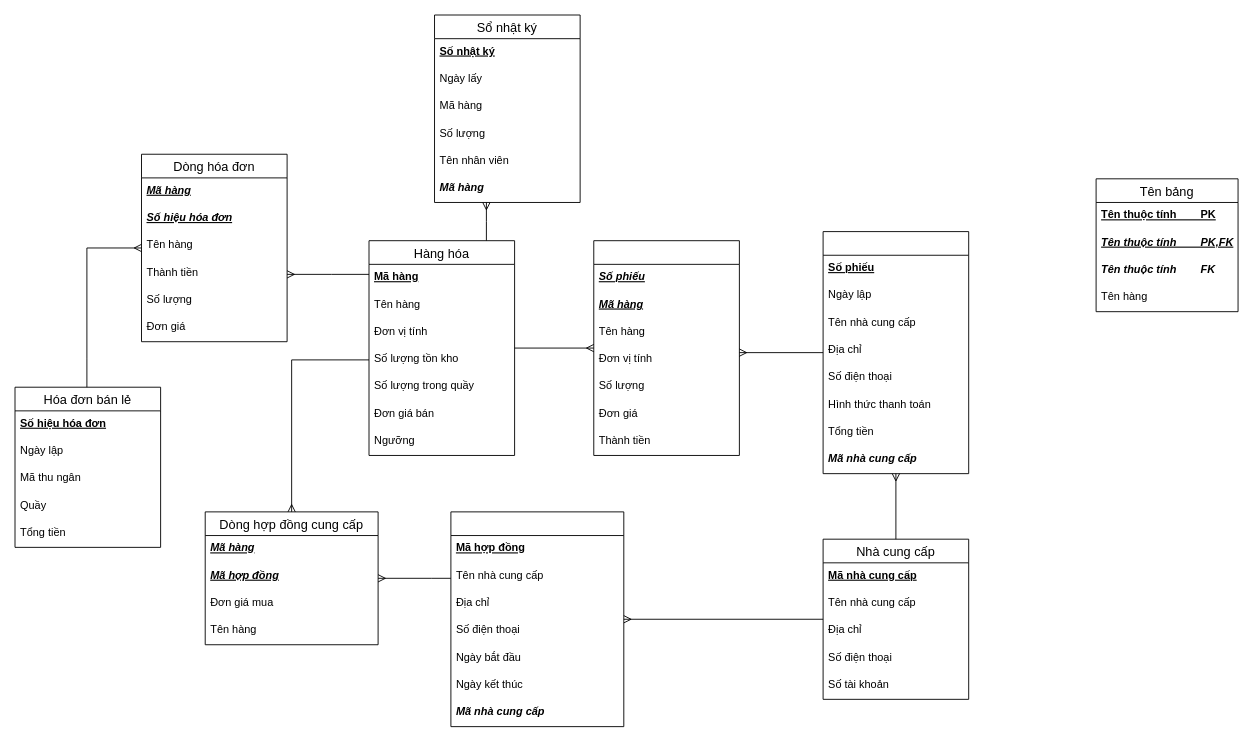
Some shapes in this 1253 by 742 pixel diagram are drawn without their labels. The box of each missing label's shape, as (x1, y1, x2, y2) in pixels:
Dòng phiếu nhập kho: (593, 240, 739, 455)
Hợp đồng cung cấp hàng: (450, 511, 624, 727)
Phiếu nhập kho: (822, 231, 969, 474)
